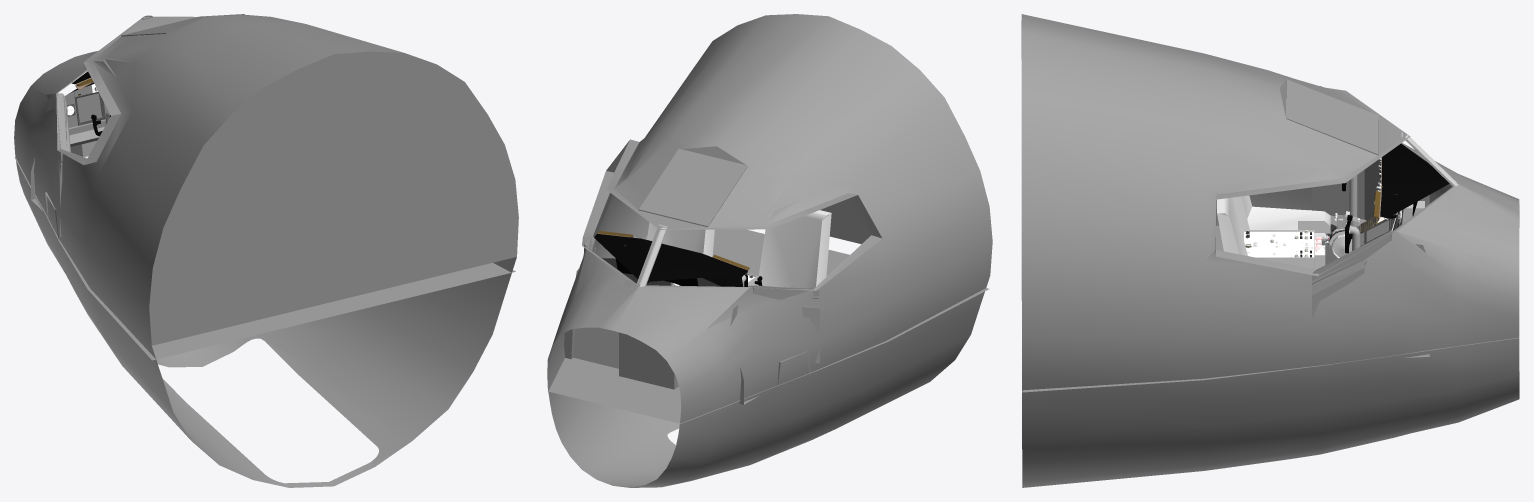
The model's file is b738_pit.glb.
3 renders of one model, left to right at view 1: azimuth 30°, elevation 25°; view 2: azimuth 150°, elevation 25°; view 3: azimuth 270°, elevation 25°, orthographic. The views are drawn at different scales.
Visible parts, largest first — view 1: dorrhfront, floor, lhsidepanel.002, Plane.002, line.002; view 2: dorrhfront, floor, silla_2, sunshield.002, radiopanel.002, Cube (×2), lhsidepanel.002, silla, Cube.001, lhsidepanel.000; view 3: dorrhfront, sunshield.002, silla_2, lhsidepanel.002, lhsidepanel.000, Cube_1.002, silla, floor, cinstpanel.001_0.005, radiopanel.002.
Boxes of the visible parts, x1=… form: dorrhfront: x1=14, y1=14, x2=518, y2=487; floor: x1=14, y1=157, x2=515, y2=360; lhsidepanel.002: x1=31, y1=93, x2=70, y2=236; Plane.002: x1=64, y1=91, x2=108, y2=127; line.002: x1=69, y1=121, x2=105, y2=146; dorrhfront: x1=547, y1=14, x2=992, y2=487; floor: x1=548, y1=229, x2=988, y2=423; silla_2: x1=757, y1=210, x2=831, y2=288; sunshield.002: x1=594, y1=234, x2=747, y2=286; radiopanel.002: x1=619, y1=332, x2=678, y2=389; Cube (×2): x1=591, y1=224, x2=667, y2=366; lhsidepanel.002: x1=730, y1=285, x2=819, y2=404; silla: x1=647, y1=222, x2=714, y2=256; Cube.001: x1=573, y1=327, x2=591, y2=361; lhsidepanel.000: x1=564, y1=232, x2=595, y2=359; dorrhfront: x1=1021, y1=14, x2=1519, y2=487; sunshield.002: x1=1380, y1=144, x2=1449, y2=217; silla_2: x1=1232, y1=195, x2=1330, y2=256; lhsidepanel.002: x1=1312, y1=160, x2=1429, y2=220; lhsidepanel.000: x1=1312, y1=230, x2=1429, y2=357; Cube_1.002: x1=1244, y1=231, x2=1313, y2=257; silla: x1=1217, y1=197, x2=1247, y2=255; floor: x1=1022, y1=225, x2=1518, y2=392; cinstpanel.001_0.005: x1=1243, y1=230, x2=1314, y2=268; radiopanel.002: x1=1359, y1=208, x2=1423, y2=246.
Bounding box in the file's own units: 3.06 × 3.42 × 3.49.
39 materials, 31 textured.
